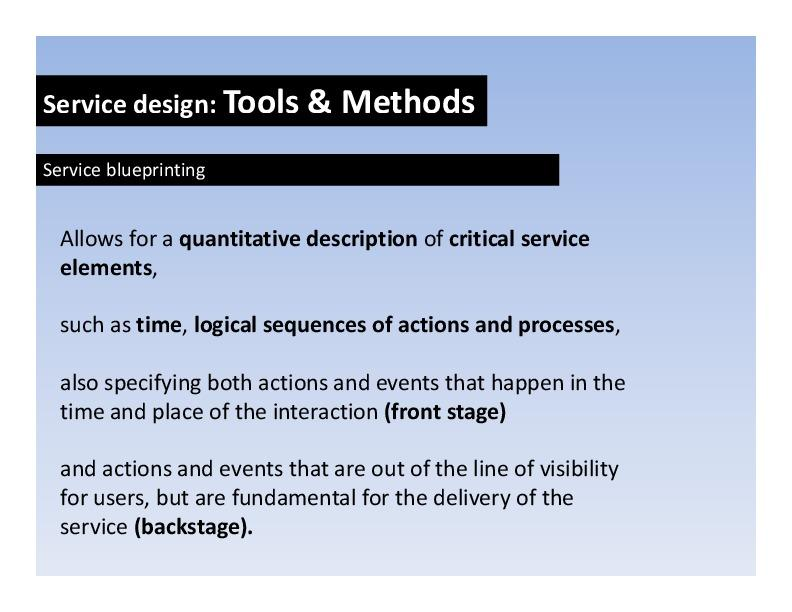paragraph: (43, 209, 647, 574)
subtitle: (30, 149, 230, 196)
title: (40, 80, 491, 126)
